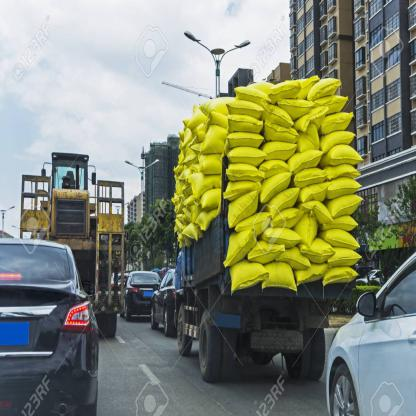overloaded-truck: (170, 92, 357, 299)
